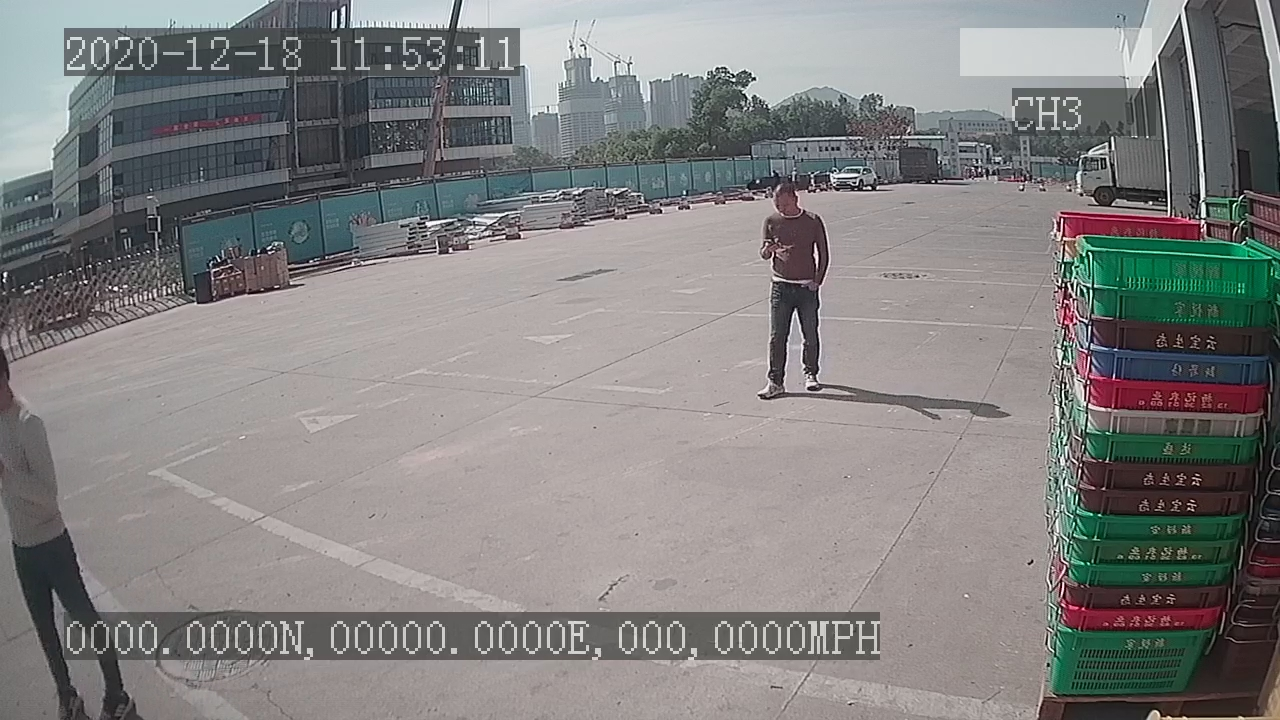person: (745, 177, 836, 403)
